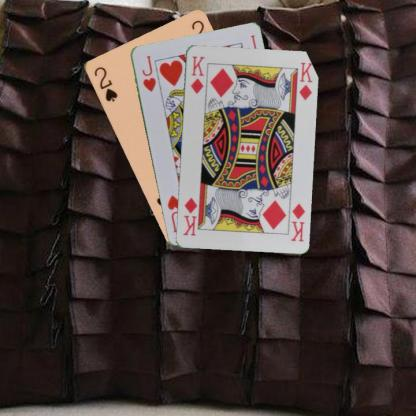2s: (91, 63, 118, 103)
Jh: (139, 52, 157, 92)
Kd: (188, 53, 206, 95), (288, 201, 306, 243)
